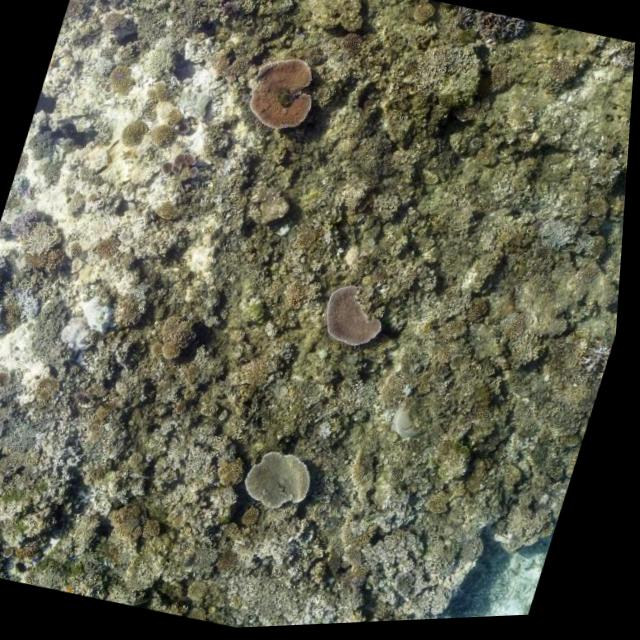Healthy Coral: (233, 432, 333, 538), (242, 48, 332, 142), (313, 274, 404, 364), (151, 313, 203, 366), (103, 60, 147, 107), (120, 117, 152, 154)
